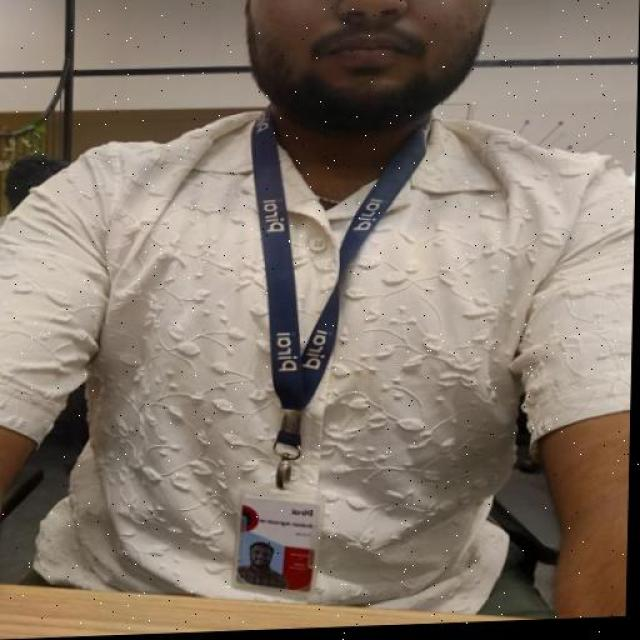id_card: (233, 101, 420, 596)
